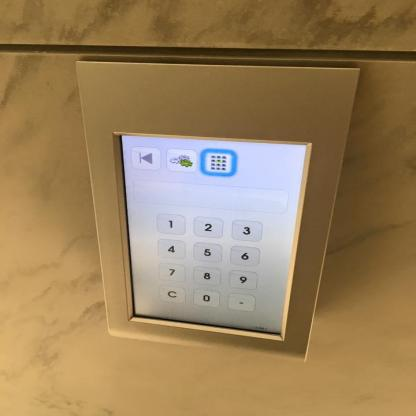-: (227, 293, 255, 311)
0: (192, 289, 219, 307)
1: (155, 212, 185, 234)
2: (191, 215, 223, 238)
3: (228, 218, 263, 242)
4: (157, 239, 186, 258)
5: (192, 242, 222, 261)
6: (230, 244, 260, 266)
7: (156, 262, 185, 280)
8: (193, 266, 220, 284)
9: (228, 270, 257, 288)
C: (158, 284, 184, 302)
unknown: (200, 148, 234, 175), (166, 148, 196, 172), (130, 146, 161, 169)
